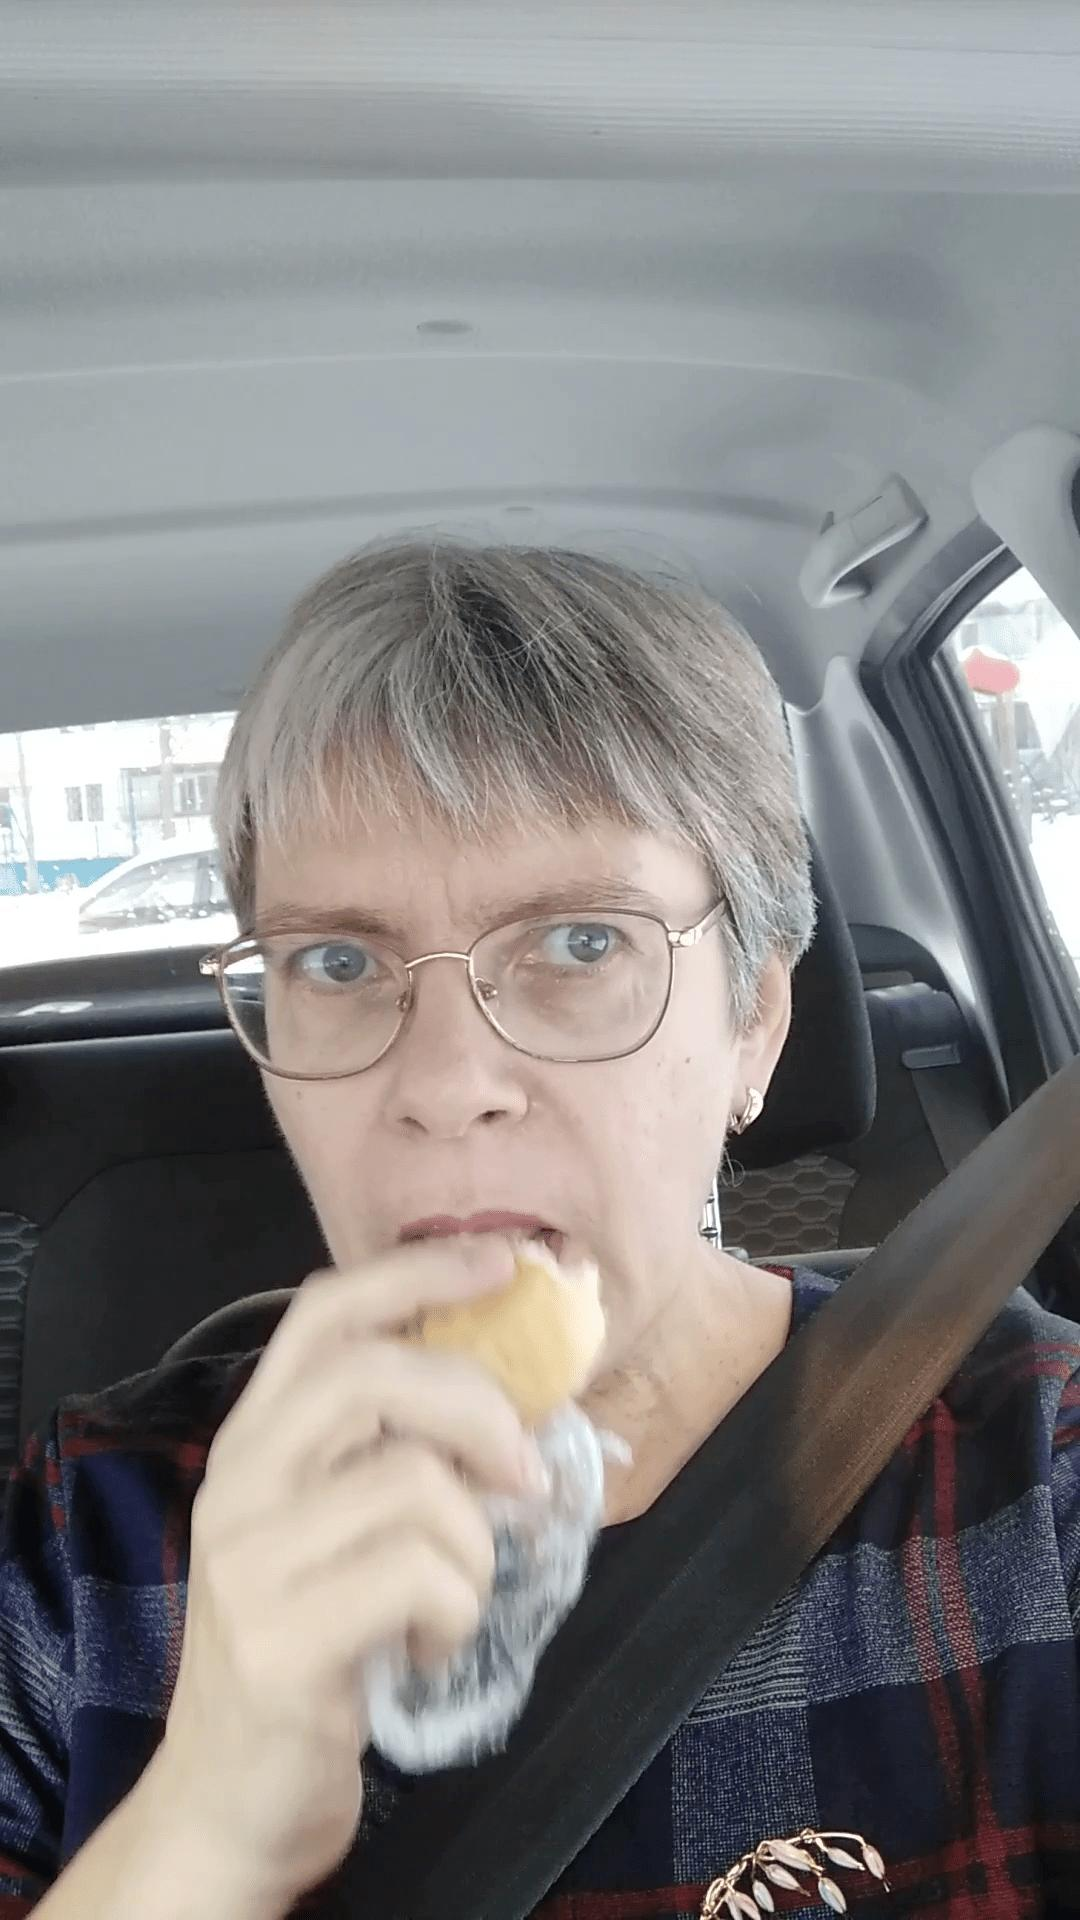Eating: (349, 1212, 646, 1787)
